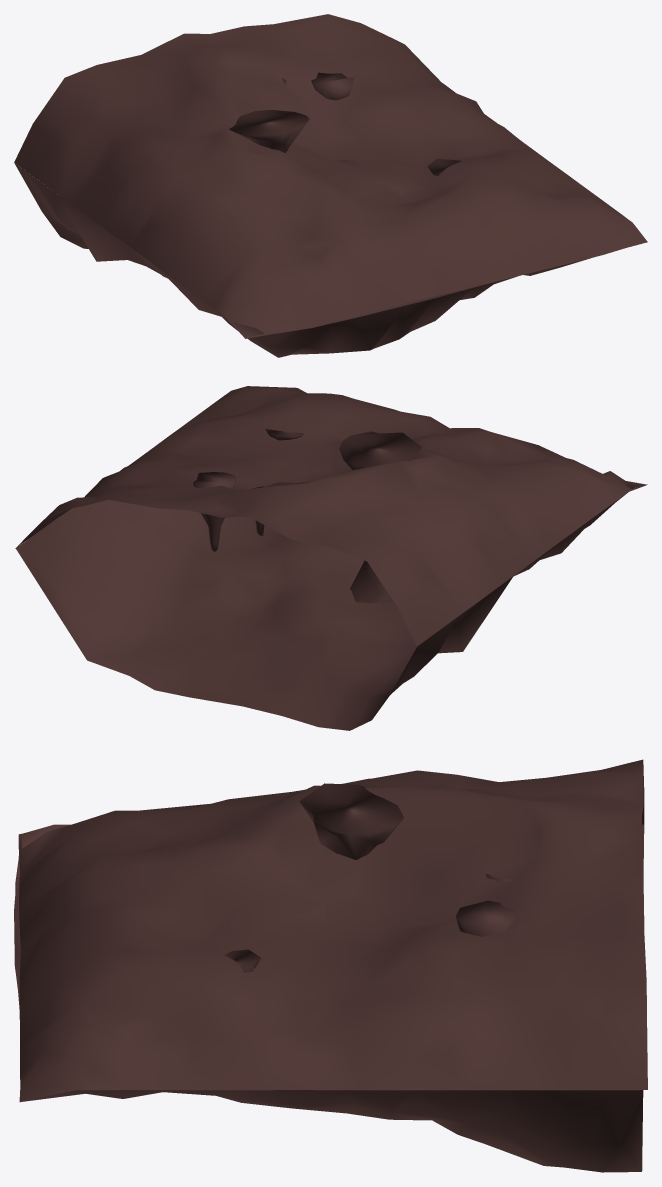
The model's file is cave bg scene.fbx.
3 renders of one model, top to bottom at view 1: azimuth 30°, elevation 25°; view 2: azimuth 150°, elevation 25°; view 3: azimuth 270°, elevation 25°, orthographic. The views are drawn at different scales.
Visible parts, largest first — view 1: Landscape.001, Landscape.003, Icosphere.002, Icosphere.005; view 2: Landscape.001, Landscape.003, Icosphere.002, Icosphere.005; view 3: Landscape.001, Landscape.003, Icosphere.002, Icosphere.005.
Boxes of the visible parts, bbox=[...] form: Landscape.001: bbox=[14, 14, 647, 338]; Landscape.003: bbox=[14, 83, 623, 357]; Icosphere.002: bbox=[229, 110, 309, 152]; Icosphere.005: bbox=[311, 72, 353, 100]; Landscape.001: bbox=[15, 386, 647, 646]; Landscape.003: bbox=[16, 395, 646, 730]; Icosphere.002: bbox=[339, 431, 422, 602]; Icosphere.005: bbox=[193, 472, 236, 551]; Landscape.001: bbox=[18, 759, 647, 1102]; Landscape.003: bbox=[14, 824, 644, 1172]; Icosphere.002: bbox=[299, 783, 403, 859]; Icosphere.005: bbox=[456, 900, 515, 936].
Size of the model in its own units: 1658 by 800 by 1670.
